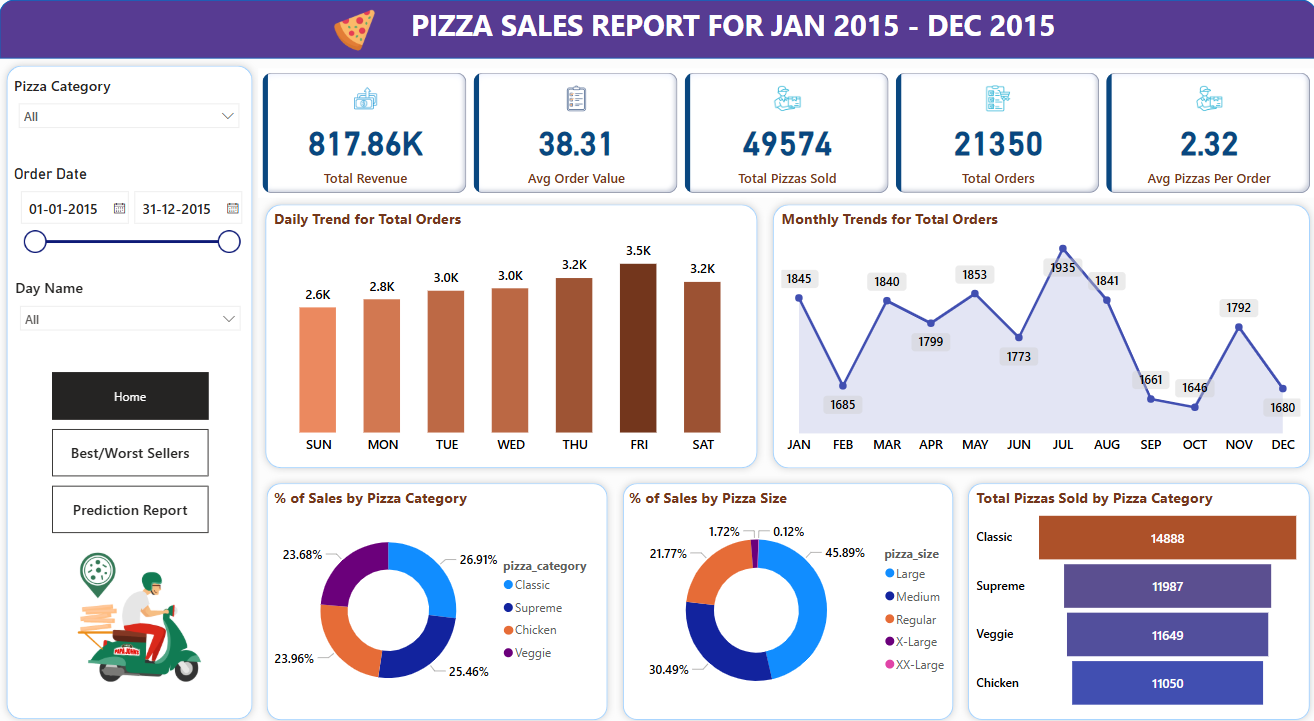

What the dashboard file says about the page in this screenshot:
{"tool":"powerbi","page":{"name":"Home","canvas":[1500,820],"ordinal":0},"visuals":[{"type":"shape","box":[14.3,75.7,290,744.3],"z":0},{"type":"cardVisual","fields":{"Data":["pizza_sales.Total Revenue","pizza_sales.Avg Order Value","pizza_sales.Total Pizzas Sold","pizza_sales.Total Orders","pizza_sales.Avg Pizzas Per Order"]},"box":[302.9,85.7,1178.6,144.3],"z":1000},{"type":"shape","box":[14.3,10,1467.1,65.7],"z":2000},{"type":"textbox","box":[438.7,11.1,785.5,65.5],"z":3000},{"type":"image","box":[380.2,15.3,58.5,57.1],"z":4000},{"type":"shape","box":[302.9,230,564.3,310],"z":5000},{"type":"columnChart","title":"Daily Trend for Total Orders","fields":{"Category":["pizza_sales.Order Day"],"Y":["pizza_sales.Total Orders"]},"box":[314.3,242.9,538.6,282.9],"z":6000},{"type":"shape","box":[867.1,230,614.3,310],"z":7000},{"type":"areaChart","title":"Monthly Trends for Total Orders","fields":{"Category":["pizza_sales.Order Month"],"Y":["pizza_sales.Total Orders"]},"box":[880,242.9,588.6,282.9],"z":8000},{"type":"shape","box":[304.3,540,395.7,280],"z":9000},{"type":"shape","box":[700,540,384.3,280],"z":10000},{"type":"shape","box":[1084.3,540,397.1,280],"z":11000},{"type":"donutChart","title":"% of Sales by Pizza Category","fields":{"Category":["pizza_sales.pizza_category"],"Y":["pizza_sales.Total Revenue"]},"box":[314.3,552.9,374.3,252.9],"z":12000},{"type":"donutChart","title":"% of Sales by Pizza Size","fields":{"Y":["pizza_sales.Total Revenue"],"Category":["pizza_sales.pizza_size"]},"box":[710,552.9,374.3,252.9],"z":13000},{"type":"funnel","title":"Total Pizzas Sold by Pizza Category","fields":{"Category":["pizza_sales.pizza_category"],"Y":["pizza_sales.Total Pizzas Sold"]},"box":[1097.1,552.9,371.4,252.9],"z":14000},{"type":"slicer","title":"Pizza Category","fields":{"Values":["pizza_sales.pizza_category"]},"box":[25.7,92.9,265.7,82.9],"z":15000},{"type":"slicer","title":"Order Date","fields":{"Values":["pizza_sales.order_date"]},"box":[25.7,193.7,265.7,107.1],"z":16000},{"type":"slicer","title":"Day Name","fields":{"Values":["Sort Reference Table.Week Name"]},"box":[27.1,318.9,265.7,92.9],"z":17000},{"type":"image","box":[27.1,585.7,264.3,220],"z":20000},{"type":"pageNavigator","box":[72.4,424.8,174.1,181.1],"z":21001}]}

Visuals, with their boxes in screenshot pixels (x1, y1, x2, y2), scaled from the page's 1500x820 canvas onto the 1314x721 screenshot:
shape: box=[13, 67, 267, 720]
cardVisual - pizza_sales.Total Revenue x pizza_sales.Avg Order Value: box=[265, 75, 1298, 202]
shape: box=[13, 9, 1298, 67]
textbox: box=[384, 10, 1072, 67]
image: box=[333, 13, 384, 64]
shape: box=[265, 202, 760, 475]
"Daily Trend for Total Orders" columnChart: box=[275, 214, 747, 462]
shape: box=[760, 202, 1298, 475]
"Monthly Trends for Total Orders" areaChart: box=[771, 214, 1286, 462]
shape: box=[267, 475, 613, 720]
shape: box=[613, 475, 950, 720]
shape: box=[950, 475, 1298, 720]
"% of Sales by Pizza Category" donutChart: box=[275, 486, 603, 709]
"% of Sales by Pizza Size" donutChart: box=[622, 486, 950, 709]
"Total Pizzas Sold by Pizza Category" funnel: box=[961, 486, 1286, 709]
"Pizza Category" slicer: box=[23, 82, 255, 155]
"Order Date" slicer: box=[23, 170, 255, 264]
"Day Name" slicer: box=[24, 280, 256, 362]
image: box=[24, 515, 255, 708]
pageNavigator: box=[63, 374, 216, 533]
